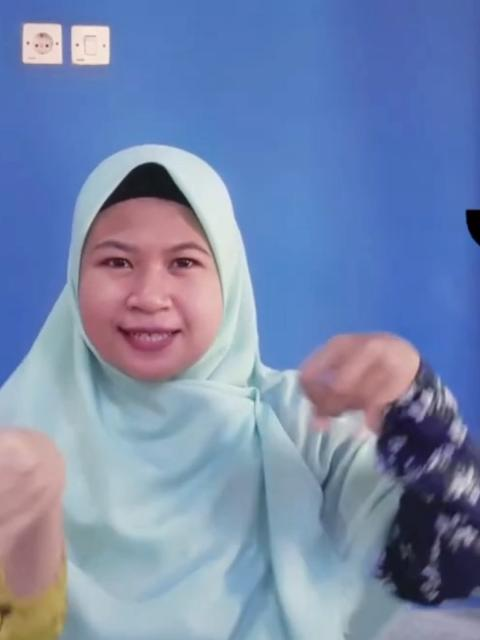J: (278, 316, 406, 452)
